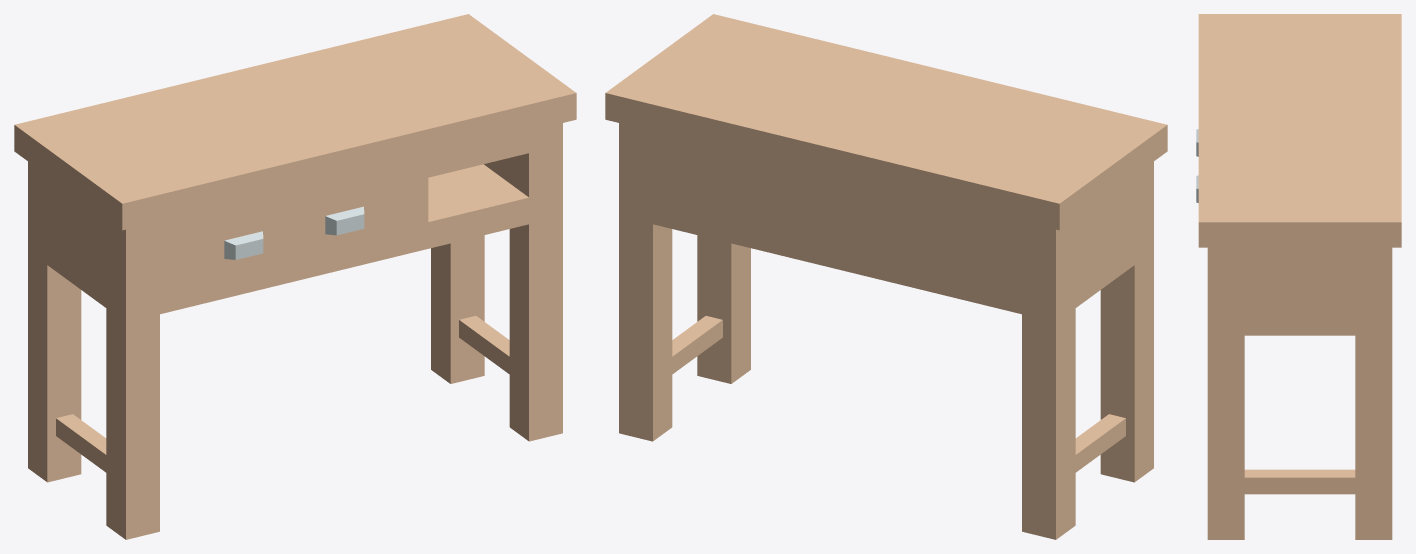
File: sideTableDrawers.glb
3 renders of one model, left to right at view 1: azimuth 30°, elevation 25°; view 2: azimuth 150°, elevation 25°; view 3: azimuth 270°, elevation 25°, orthographic. The views are drawn at different scales.
Visible parts, largest first — view 1: sideTableDrawers(Clone), drawerLeft, drawerRight; view 2: sideTableDrawers(Clone); view 3: sideTableDrawers(Clone).
Part boxes in pixels (x1,y1,x2,y2): sideTableDrawers(Clone): (14, 14, 576, 539); drawerLeft: (160, 202, 327, 287); drawerRight: (261, 178, 428, 262); sideTableDrawers(Clone): (605, 14, 1167, 539); sideTableDrawers(Clone): (1198, 14, 1401, 539).
Size of the model in its own units: 1.07 by 0.7688 by 0.4446.
